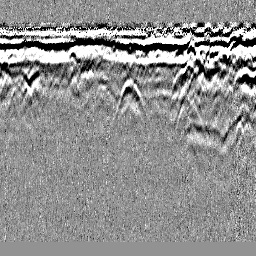cavity: (113, 78, 146, 120)
